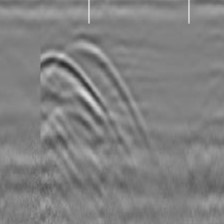Utility: (41, 38, 146, 150)
